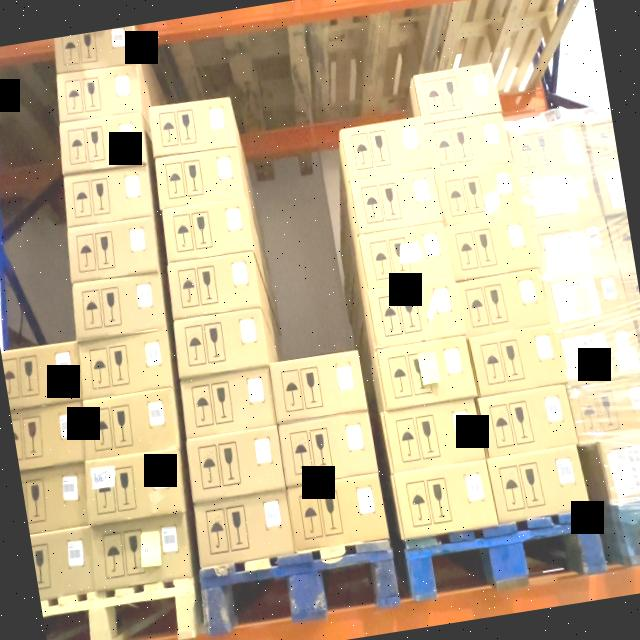box: (267, 346, 373, 426), (487, 444, 591, 524), (392, 459, 497, 538), (193, 490, 296, 567), (90, 514, 194, 590), (84, 450, 188, 526), (279, 410, 380, 488), (288, 474, 390, 551), (384, 399, 486, 474), (186, 427, 288, 502), (478, 382, 578, 458), (378, 337, 477, 411), (70, 270, 169, 342), (165, 250, 264, 320), (82, 390, 181, 460), (78, 329, 178, 398), (368, 276, 463, 348), (181, 368, 278, 438), (471, 324, 565, 396), (448, 212, 543, 282), (173, 308, 270, 376), (65, 218, 161, 284), (154, 145, 248, 212), (340, 116, 432, 184), (458, 269, 550, 337), (359, 226, 453, 292), (63, 164, 156, 229), (160, 200, 252, 264), (58, 112, 149, 176), (351, 170, 441, 234), (558, 318, 640, 386), (56, 62, 145, 124), (150, 98, 240, 159), (438, 164, 524, 226), (4, 341, 83, 408), (11, 403, 87, 471), (416, 64, 502, 124), (426, 113, 512, 173), (547, 266, 630, 328), (534, 214, 615, 277), (569, 372, 640, 442), (510, 119, 594, 178), (20, 464, 90, 534), (522, 164, 600, 224), (30, 527, 96, 597), (53, 27, 138, 76), (593, 431, 640, 504), (595, 166, 627, 217), (587, 118, 619, 165), (610, 215, 636, 268), (624, 266, 640, 314)
